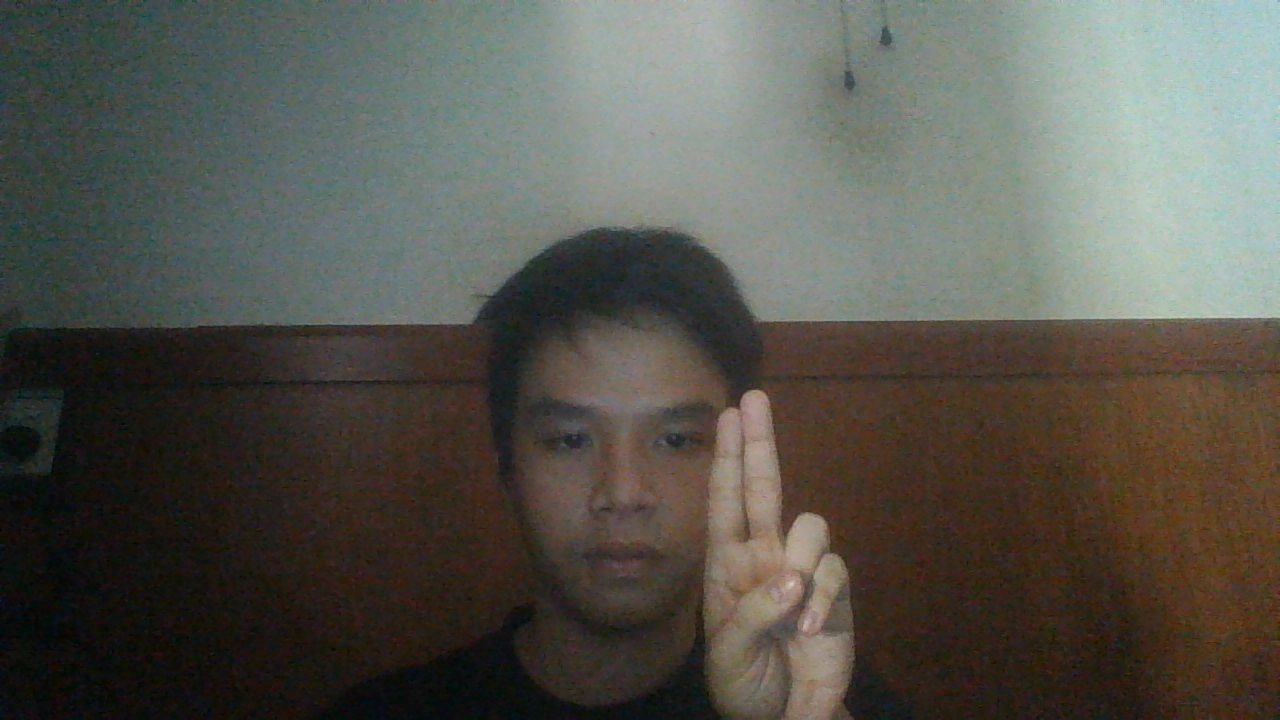write2: (702, 389, 852, 720)
